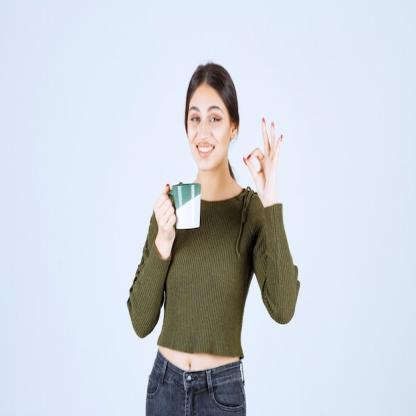ok: (240, 114, 286, 203)
